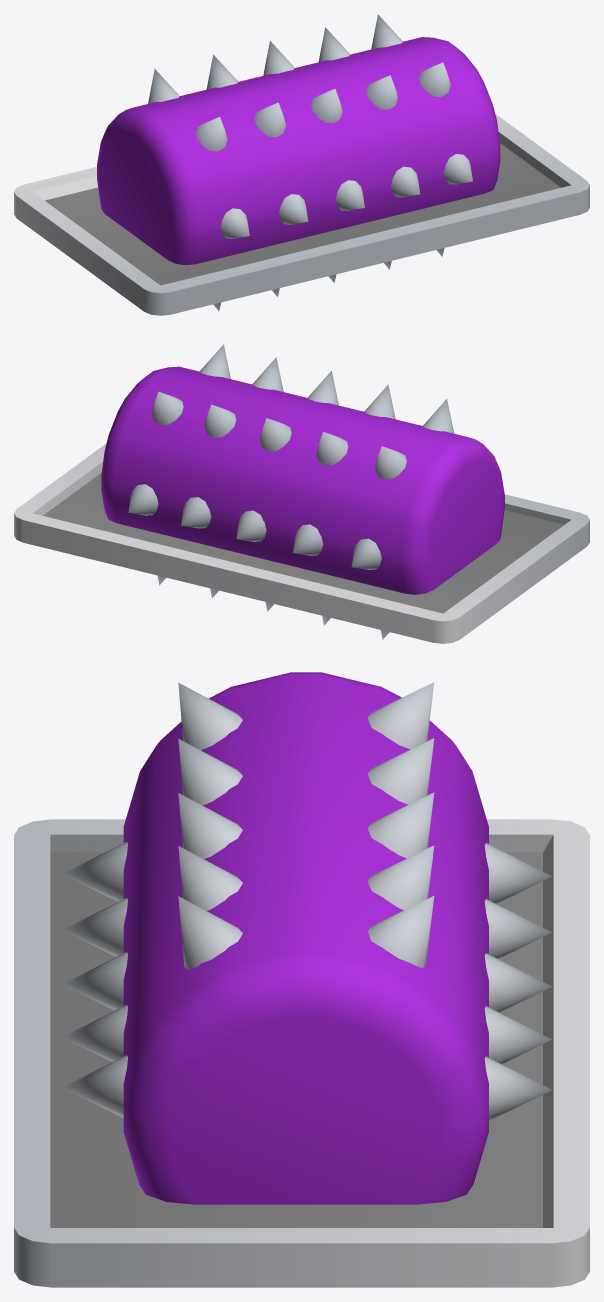
The model's file is grounded with thorns.fbx.
3 views of the same model, one above another, from view 1: azimuth 30°, elevation 25°; view 2: azimuth 150°, elevation 25°; view 3: azimuth 270°, elevation 25° (orthographic). The views are drawn at different scales.
Visible parts, largest first — view 1: cylinder with thorns.001, ground; view 2: cylinder with thorns.001, ground; view 3: cylinder with thorns.001, ground.
Part boxes in pixels (x1,y1,x2,y2): cylinder with thorns.001: (97, 14, 500, 311); ground: (14, 114, 589, 315); cylinder with thorns.001: (101, 344, 504, 639); ground: (14, 443, 589, 643); cylinder with thorns.001: (62, 672, 552, 1204); ground: (14, 819, 589, 1287).
Bounding box in the file's own units: 537 × 227 × 308.
